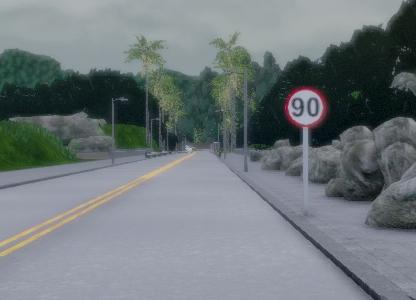Speed_90: (283, 83, 328, 131)
